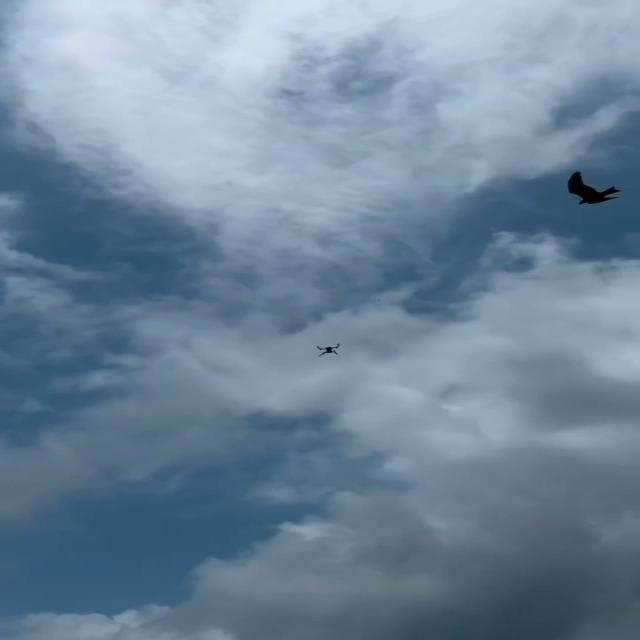bird: (566, 170, 620, 204)
drone: (316, 343, 340, 357)
